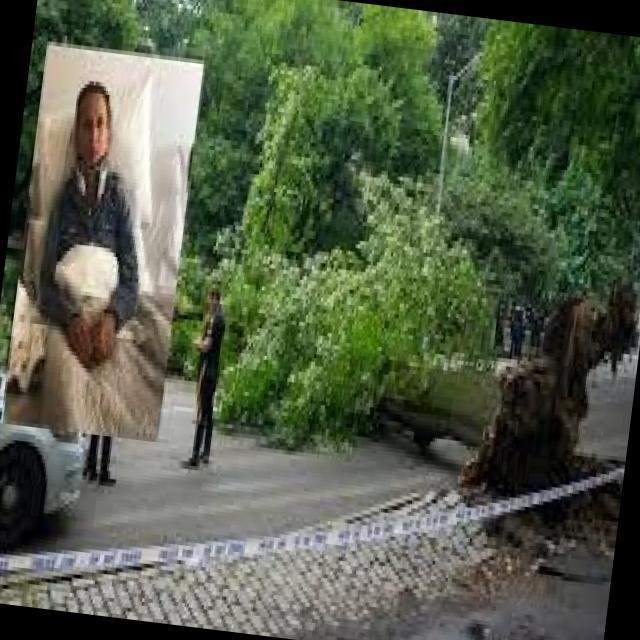fallen_object: (187, 196, 640, 533)
